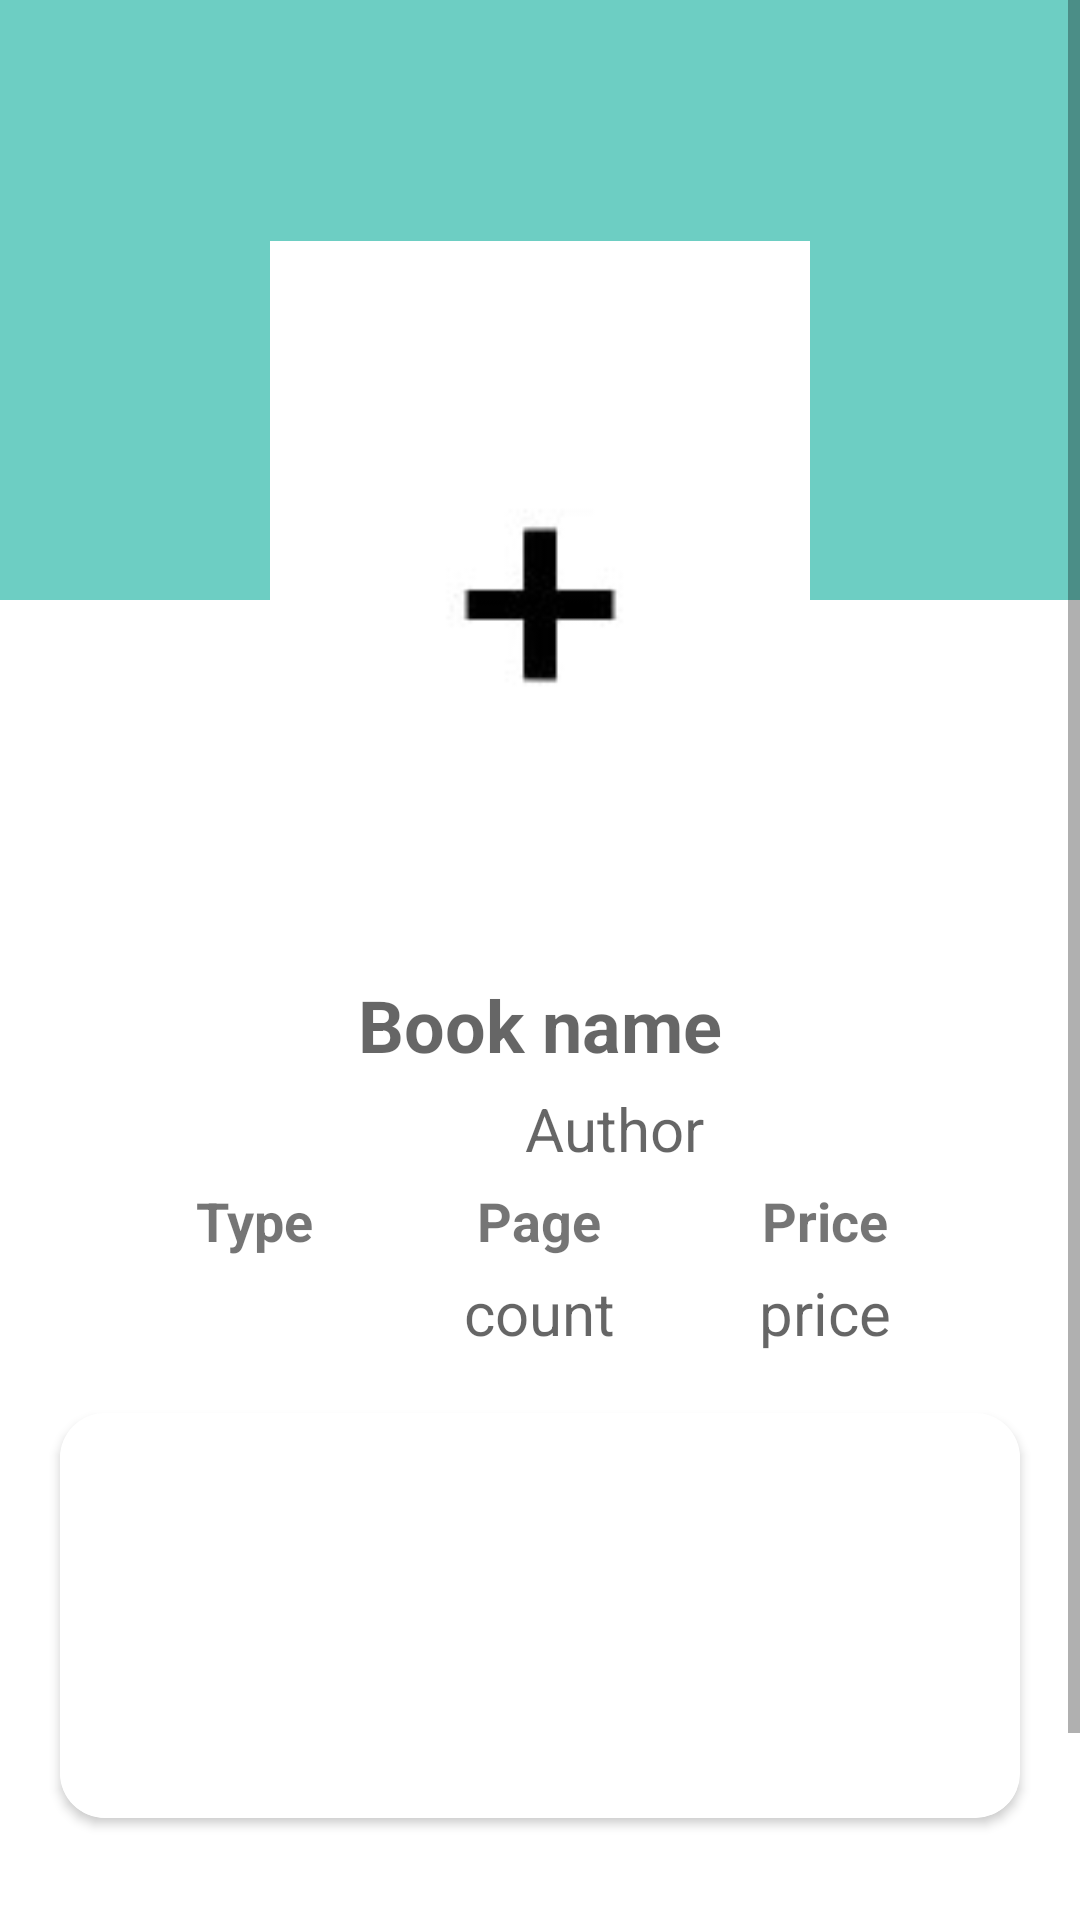

Screen size 1080*1920. Icon name, then its center in pixels as point (x, y):
imgadd: point (540, 604)
